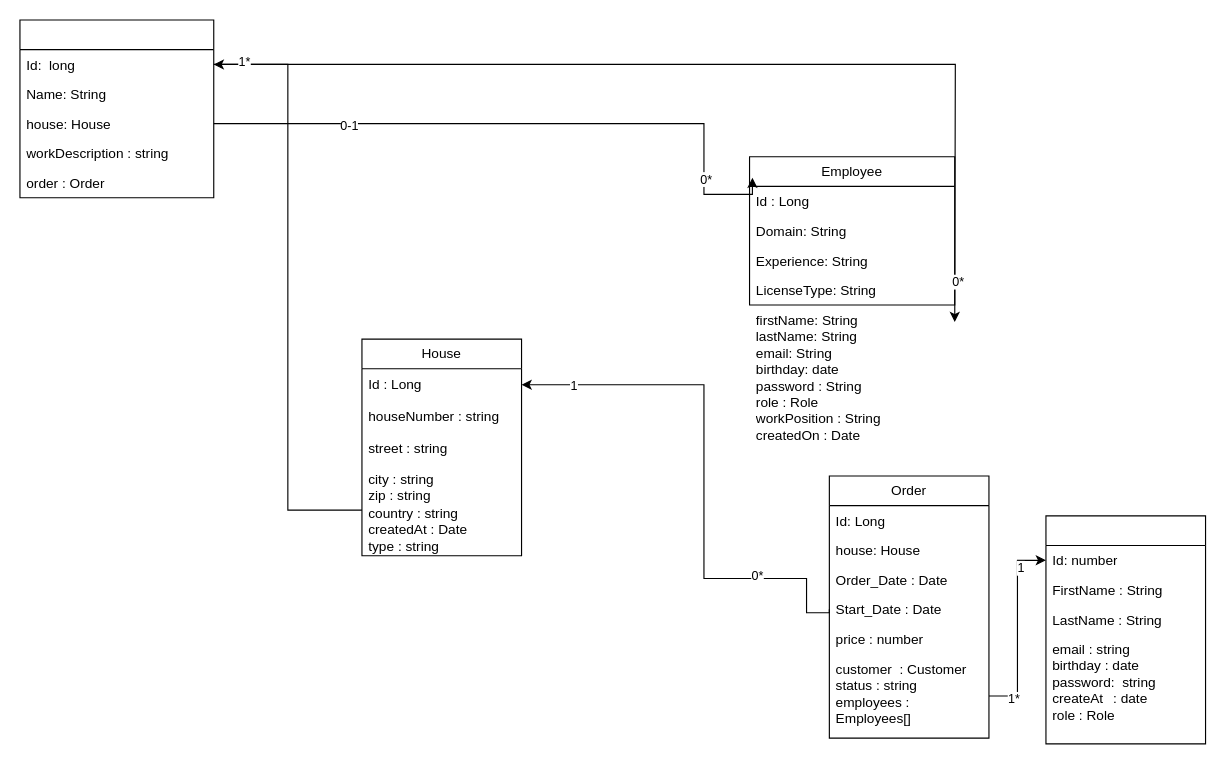
This 1226x767 diagram has some shape labels left out. The shapes that lost their labels are listed below. From the top down, each one's box as (x1, y1, x2, y2) in pixels, then its label:
(19, 19, 214, 198): Room
(1045, 515, 1206, 744): Customer
